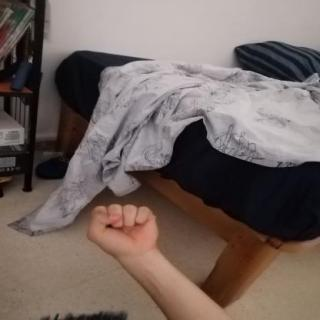SAD: (73, 192, 169, 266)
